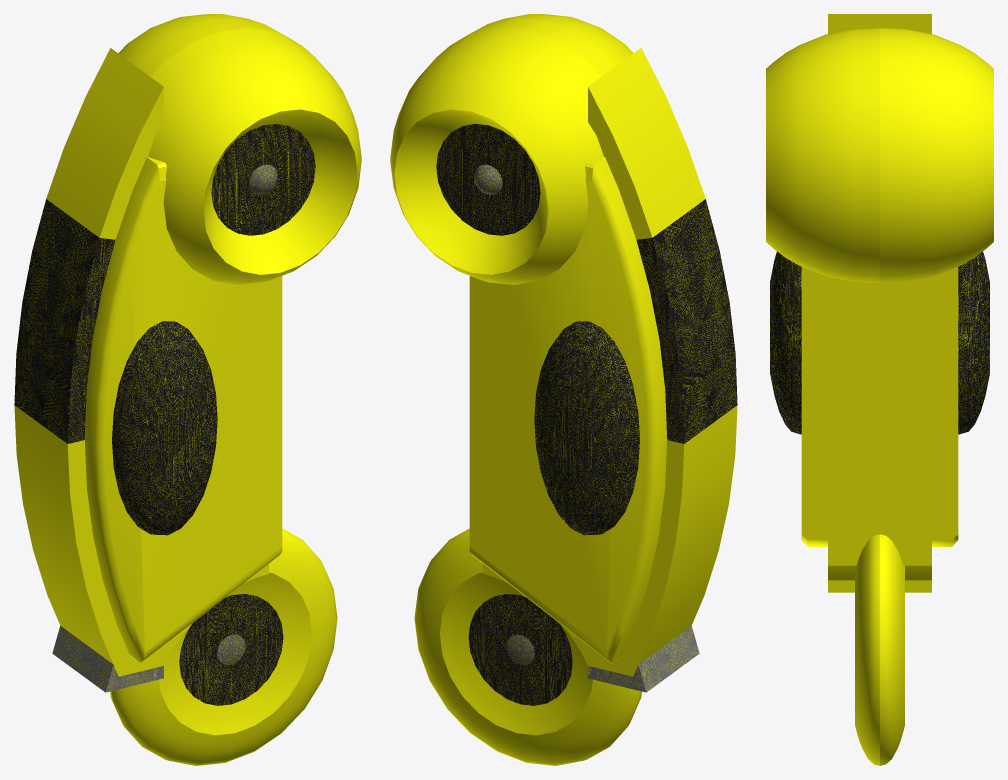
Rendered from Light_Cycle_Y.dae.
3 renders of one model, left to right at view 1: azimuth 30°, elevation 25°; view 2: azimuth 150°, elevation 25°; view 3: azimuth 270°, elevation 25°, orthographic. The views are drawn at different scales.
Visible parts, largest first — view 1: group_0 (×6), Component_1 (×4), Component_4 (×3), group_1; view 2: group_0 (×6), Component_1 (×4), Component_4 (×3), group_1; view 3: Component_1 (×2), group_0 (×2), Component_4 (×2), group_1 (×2).
Part boxes in pixels (<box>): group_0 (×6): <box>14,48,282,692</box>; Component_1 (×4): <box>118,14,361,284</box>; Component_4 (×3): <box>111,528,337,765</box>; group_1: <box>112,321,217,535</box>; group_0 (×6): <box>469,48,737,692</box>; Component_1 (×4): <box>390,14,633,284</box>; Component_4 (×3): <box>414,528,640,765</box>; group_1: <box>534,321,639,535</box>; Component_1 (×2): <box>766,27,993,282</box>; group_0 (×2): <box>801,14,958,592</box>; Component_4 (×2): <box>855,534,904,765</box>; group_1 (×2): <box>770,251,989,434</box>.
Bounding box in the file's own units: 47.87 × 32.75 × 114.
